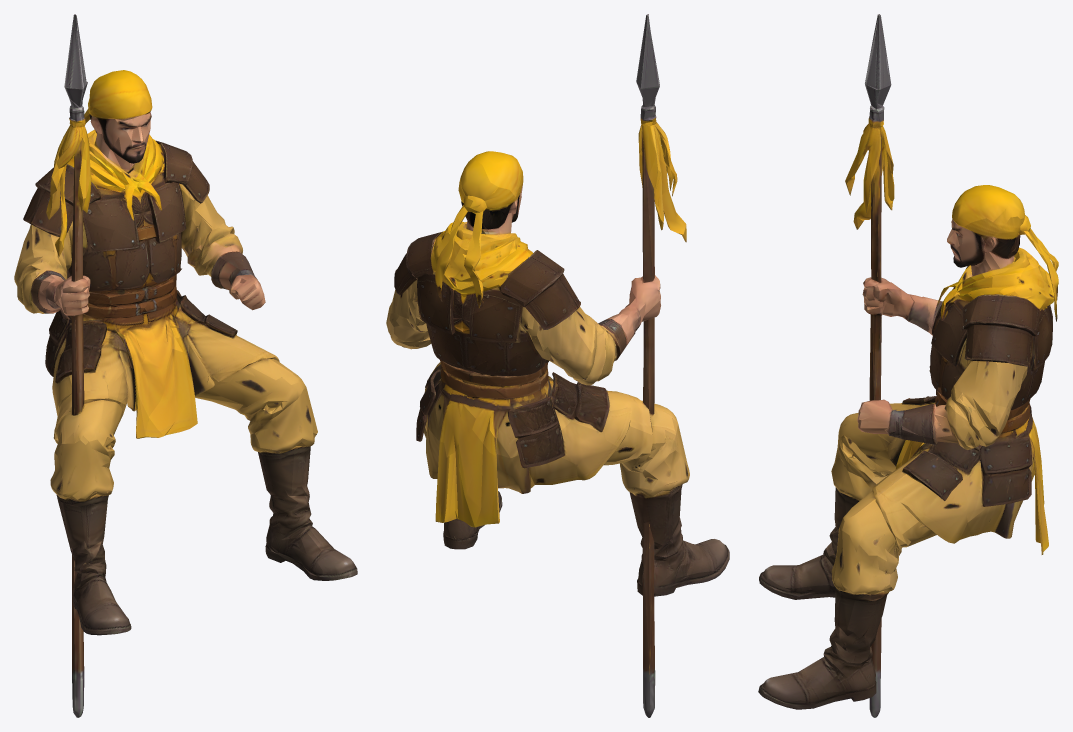
Rendered from rider_source.glb.
3 renders of one model, left to right at view 1: azimuth 30°, elevation 25°; view 2: azimuth 150°, elevation 25°; view 3: azimuth 270°, elevation 25°, orthographic.
Visible parts, largest first — view 1: Mesh_0; view 2: Mesh_0; view 3: Mesh_0.
Part boxes in pixels (box(x1,y1,x2,y2)): Mesh_0: box(14, 14, 357, 717); Mesh_0: box(386, 14, 729, 717); Mesh_0: box(758, 14, 1058, 717).
Bounding box in the file's own units: 0.7415 × 1.9 × 0.7356.
1 material, 1 textured.
